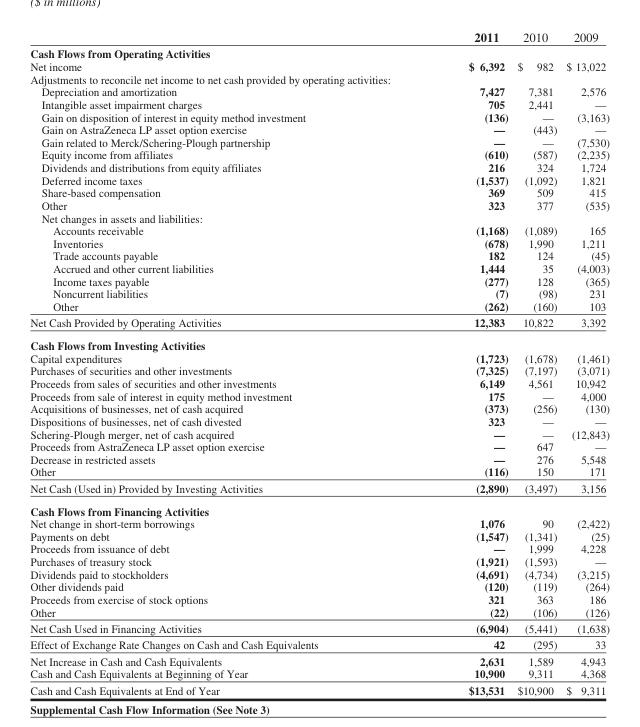table: (29, 29, 608, 696)
table column: (29, 29, 392, 696), (392, 29, 512, 696), (512, 29, 560, 696), (560, 29, 608, 696)
table column header: (29, 29, 608, 45)
table projected row header: (29, 333, 608, 351), (29, 499, 608, 516), (29, 45, 608, 59), (29, 72, 608, 84), (29, 211, 608, 223)
table row: (29, 479, 608, 499), (29, 314, 608, 333), (29, 333, 608, 351), (29, 499, 608, 516), (29, 619, 608, 636), (29, 29, 608, 45), (29, 636, 608, 652), (29, 299, 608, 314), (29, 652, 608, 667), (29, 681, 608, 696), (29, 45, 608, 59), (29, 465, 608, 479), (29, 605, 608, 619), (29, 667, 608, 681), (29, 59, 608, 72), (29, 84, 608, 97), (29, 97, 608, 110), (29, 122, 608, 135), (29, 135, 608, 148), (29, 160, 608, 173), (29, 185, 608, 198), (29, 198, 608, 211), (29, 223, 608, 236), (29, 236, 608, 249), (29, 261, 608, 274), (29, 274, 608, 287), (29, 351, 608, 364), (29, 376, 608, 389), (29, 401, 608, 414), (29, 414, 608, 427), (29, 439, 608, 452), (29, 452, 608, 465), (29, 516, 608, 529), (29, 529, 608, 542), (29, 554, 608, 567), (29, 579, 608, 592), (29, 592, 608, 605), (29, 72, 608, 84), (29, 110, 608, 122), (29, 148, 608, 160), (29, 173, 608, 185), (29, 211, 608, 223), (29, 249, 608, 261), (29, 287, 608, 299), (29, 364, 608, 376), (29, 389, 608, 401), (29, 427, 608, 439), (29, 542, 608, 554), (29, 567, 608, 579)
